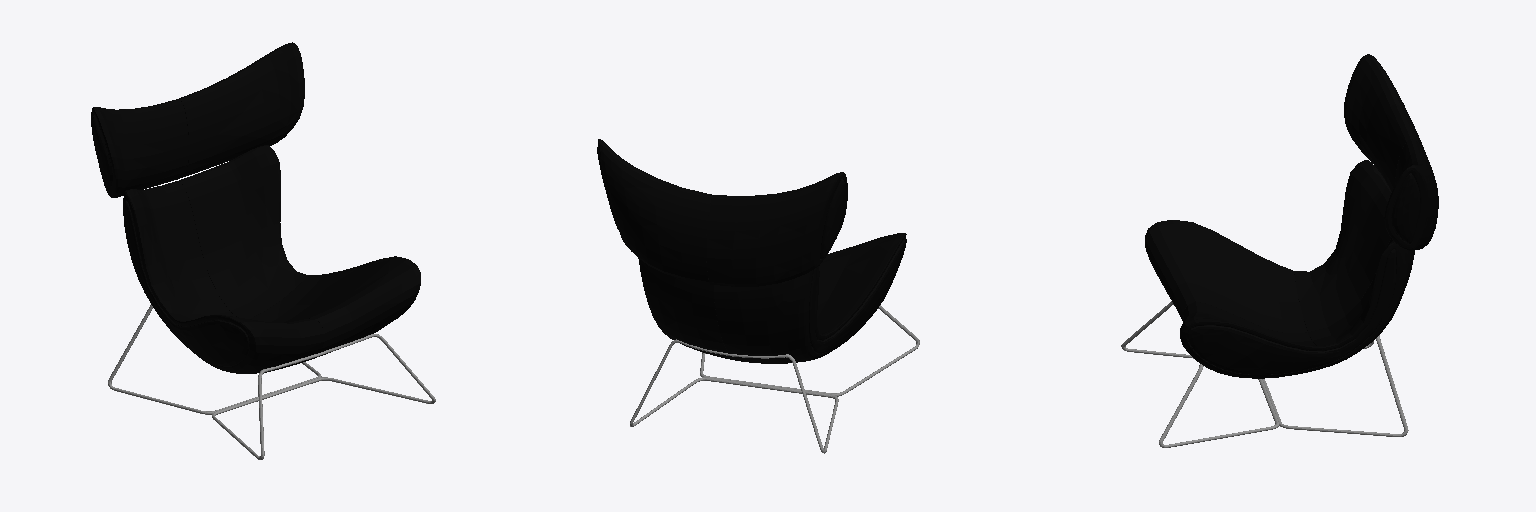
The model's file is objchair.obj.
3 renders of one model, left to right at view 1: azimuth 30°, elevation 25°; view 2: azimuth 150°, elevation 25°; view 3: azimuth 270°, elevation 25°, orthographic.
Parts seen in each view (by area): view 1: Bo_Concept_Imola; view 2: Bo_Concept_Imola; view 3: Bo_Concept_Imola.
Boxes of the visible parts, x1=… form: Bo_Concept_Imola: x1=91, y1=42, x2=435, y2=459; Bo_Concept_Imola: x1=597, y1=139, x2=919, y2=453; Bo_Concept_Imola: x1=1121, y1=54, x2=1438, y2=447.
Size of the model in its own units: 1.75 by 2.02 by 2.